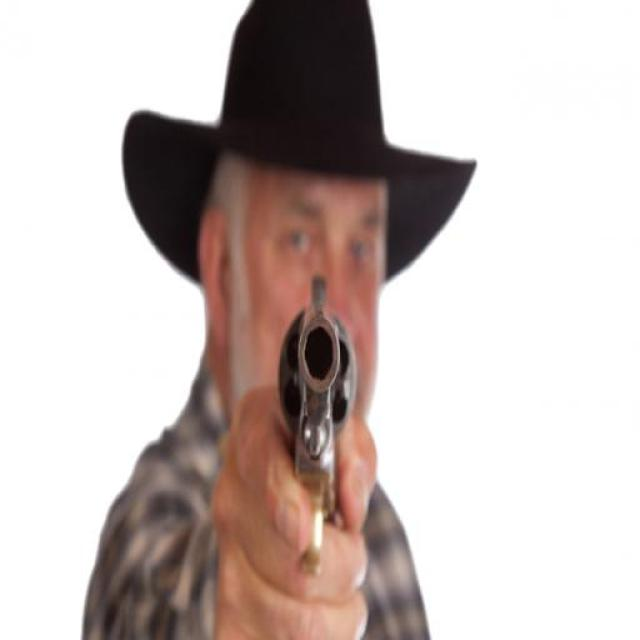pistol: (277, 266, 357, 572)
